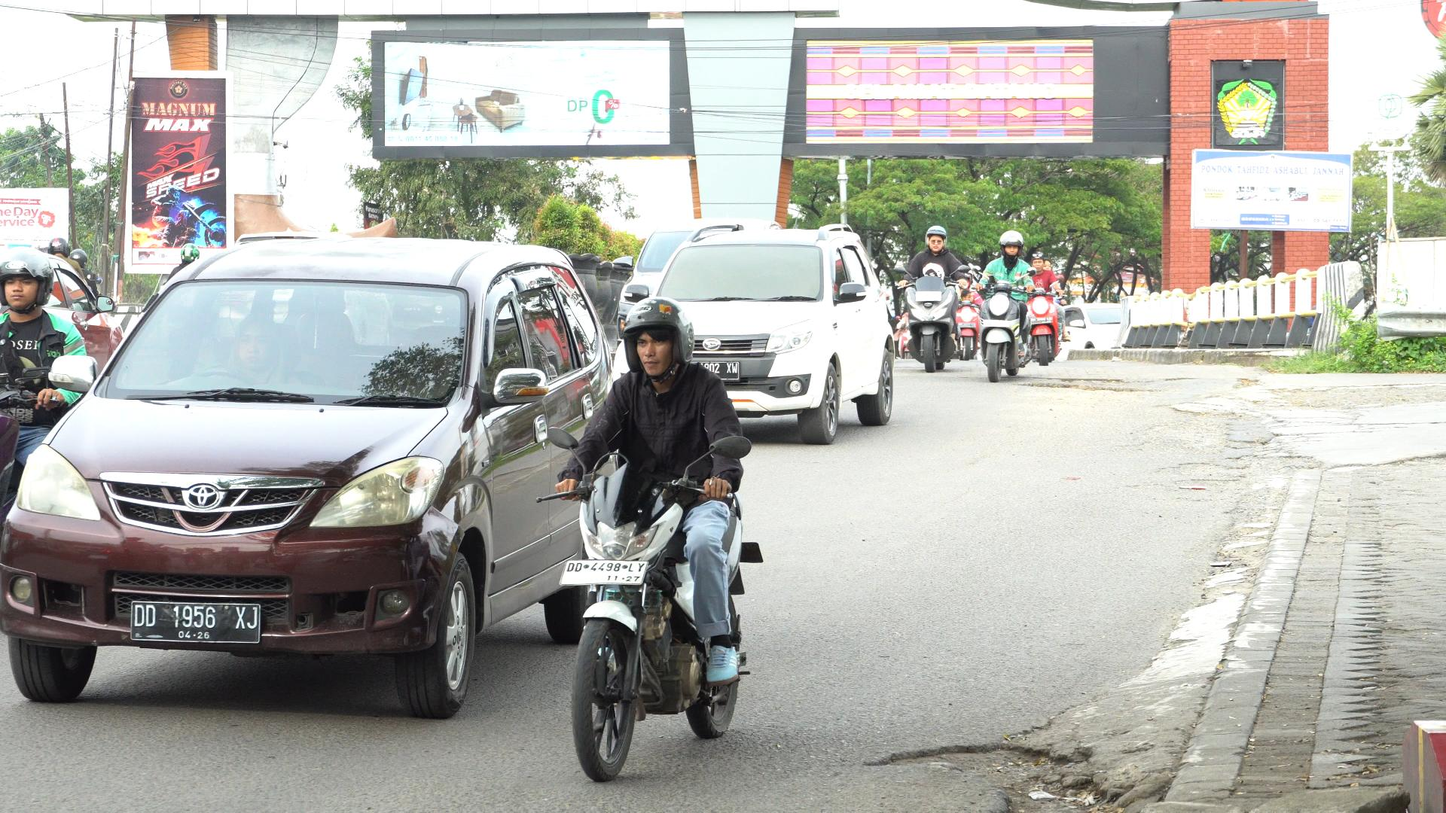number-plate: (560, 557, 645, 583)
